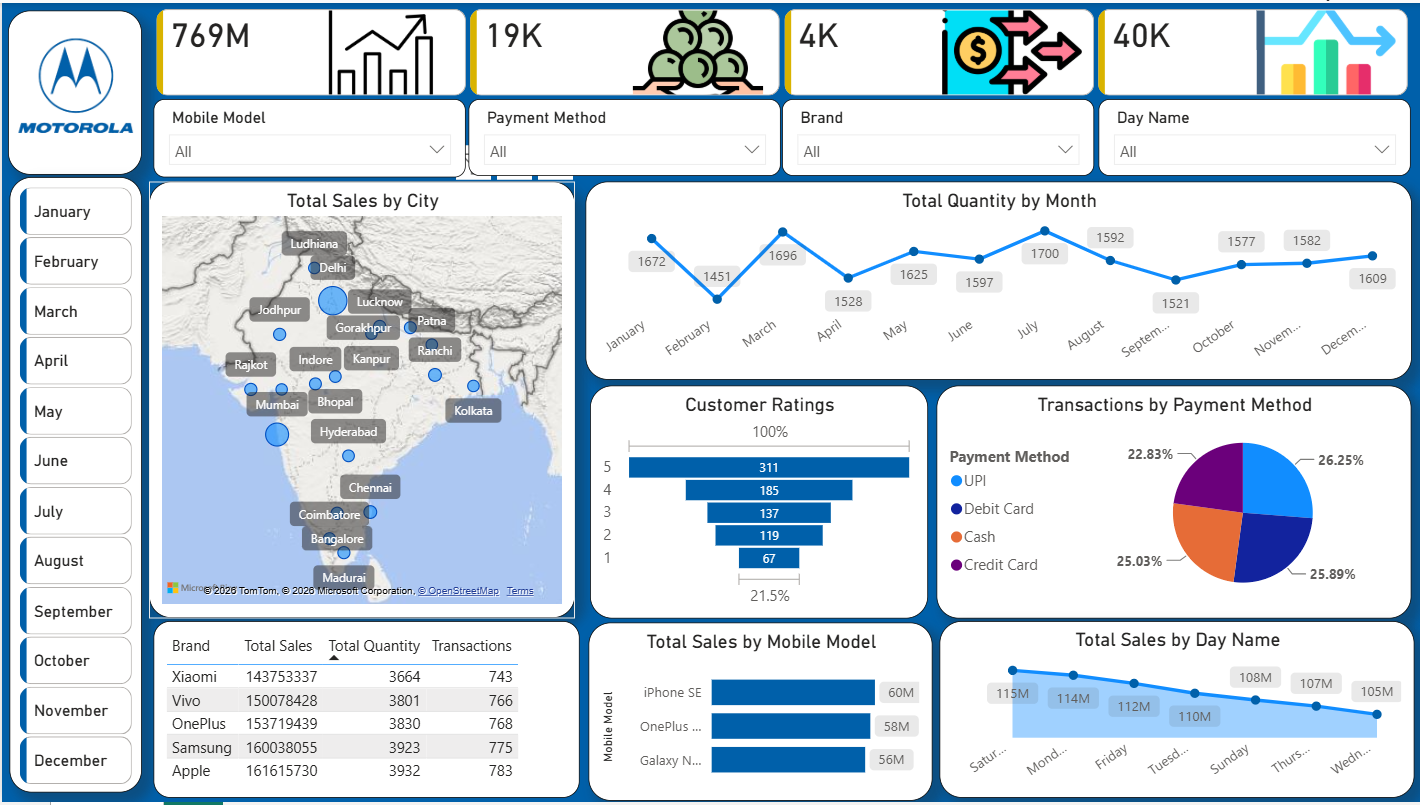

The dashboard page shown, as its layout file describes it:
{"tool":"powerbi","page":{"name":"Page 1","canvas":[1280,720],"ordinal":0},"visuals":[{"type":"shape","box":[5.5,6.9,120.8,148.2],"z":0},{"type":"image","box":[9.6,16.5,113.9,116.6],"z":1000},{"type":"shape","box":[6.9,156.4,119.4,554.4],"z":2000},{"type":"advancedSlicerVisual","fields":{"Values":["Sales_Data.Date.Variation.Date Hierarchy.Month"]},"box":[11,160.5,111.1,548.9],"z":3000},{"type":"cardVisual","fields":{"Data":["Sales_Data.Total Sales","Sales_Data.Total Quantity","Sales_Data.Transactions","Sales_Data.Average"]},"box":[134,5.6,1140.1,83.7],"z":4000},{"type":"map","fields":{"Category":["Sales_Data.City"],"Size":["Sales_Data.Total Sales"]},"box":[132.9,160.8,384.1,393.1],"z":5000},{"type":"lineChart","fields":{"Y":["Sales_Data.Total Quantity"],"Category":["Sales_Data.Date.Variation.Date Hierarchy.Month","Sales_Data.Date.Variation.Date Hierarchy.Day"]},"box":[525.9,160.8,744.8,178.7],"z":6000},{"type":"clusteredBarChart","fields":{"Category":["Sales_Data.Mobile Model"],"Y":["Sales_Data.Total Sales"]},"box":[528.3,558.5,310.1,160.5],"z":7000},{"type":"pieChart","fields":{"Category":["Sales_Data.Payment Method"],"Y":["Sales_Data.Transactions"]},"box":[842.5,344.4,428.1,209.9],"z":8000},{"type":"funnel","title":"Customer Ratings","fields":{"Category":["Sales_Data.Customer Ratings"],"Y":["CountNonNull(Sales_Data.Customer Ratings)"]},"box":[529.7,344.4,304.6,209.9],"z":9000},{"type":"areaChart","fields":{"Category":["Sales_Data.Day Name"],"Y":["Sales_Data.Total Sales"]},"box":[845.3,557.1,428.1,159.2],"z":10000},{"type":"tableEx","fields":{"Values":["Sales_Data.Brand","Sales_Data.Total Sales","Sales_Data.Total Quantity","Sales_Data.Transactions"]},"box":[135.8,557.1,384.2,159.2],"z":11000},{"type":"slicer","fields":{"Values":["Sales_Data.Mobile Model"]},"box":[136.2,87.1,281.4,70.3],"z":12000},{"type":"slicer","fields":{"Values":["Sales_Data.Payment Method"]},"box":[421,87.1,281.4,69.2],"z":13000},{"type":"slicer","fields":{"Values":["Sales_Data.Brand"]},"box":[703.5,87.1,281.4,69.2],"z":14000},{"type":"slicer","fields":{"Values":["Sales_Data.Day Name"]},"box":[988.2,87.1,281.4,69.2],"z":15000}]}

Visuals, with their boxes in screenshot pixels (x1, y1, x2, y2), scaled from the page's 1280x720 canvas onto the 1420x805 screenshot:
shape: x1=6, y1=8, x2=140, y2=173
image: x1=11, y1=18, x2=137, y2=149
shape: x1=8, y1=175, x2=140, y2=795
advancedSlicerVisual - Sales_Data.Date.Variation.Date Hierarchy.Month: x1=12, y1=179, x2=135, y2=793
cardVisual - Sales_Data.Total Sales x Sales_Data.Total Quantity: x1=149, y1=6, x2=1413, y2=100
map - Sales_Data.City x Sales_Data.Total Sales: x1=147, y1=180, x2=574, y2=619
lineChart - Sales_Data.Total Quantity x Sales_Data.Date.Variation.Date Hierarchy.Month: x1=583, y1=180, x2=1410, y2=380
clusteredBarChart - Sales_Data.Mobile Model x Sales_Data.Total Sales: x1=586, y1=624, x2=930, y2=804
pieChart - Sales_Data.Payment Method x Sales_Data.Transactions: x1=935, y1=385, x2=1410, y2=620
"Customer Ratings" funnel: x1=588, y1=385, x2=926, y2=620
areaChart - Sales_Data.Day Name x Sales_Data.Total Sales: x1=938, y1=623, x2=1413, y2=801
tableEx - Sales_Data.Brand x Sales_Data.Total Sales: x1=151, y1=623, x2=577, y2=801
slicer - Sales_Data.Mobile Model: x1=151, y1=97, x2=463, y2=176
slicer - Sales_Data.Payment Method: x1=467, y1=97, x2=779, y2=175
slicer - Sales_Data.Brand: x1=780, y1=97, x2=1093, y2=175
slicer - Sales_Data.Day Name: x1=1096, y1=97, x2=1408, y2=175
